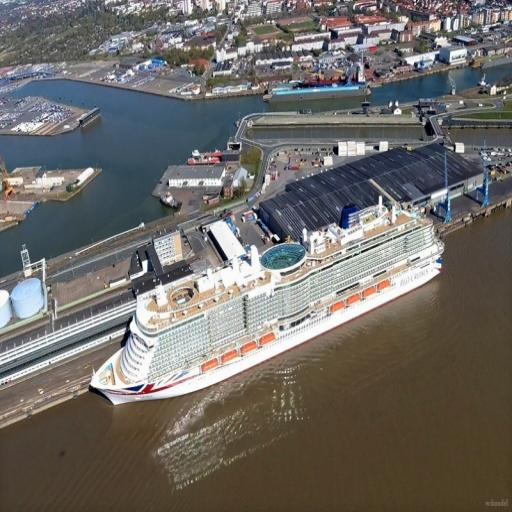cruises: (87, 193, 448, 415)
